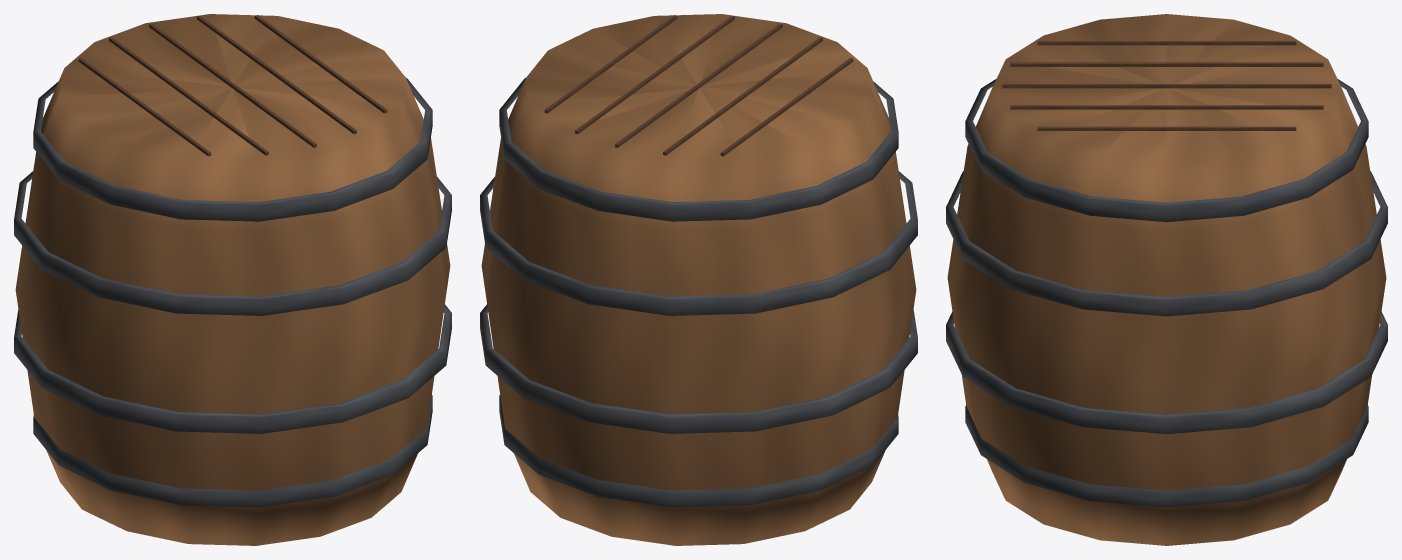
File: barrel.glb
The picture shows the model from 3 angles, left to right: view 1: azimuth 30°, elevation 25°; view 2: azimuth 150°, elevation 25°; view 3: azimuth 270°, elevation 25°; orthographic projection.
Visible parts, largest first — view 1: barrel; view 2: barrel; view 3: barrel.
Part boxes in pixels (x1,y1,x2,y2): barrel: [14, 14, 451, 545]; barrel: [480, 14, 917, 545]; barrel: [946, 14, 1387, 545].
Size of the model in its own units: 0.875 by 0.85 by 0.8778.
Materials: 1 (1 with a texture image).
